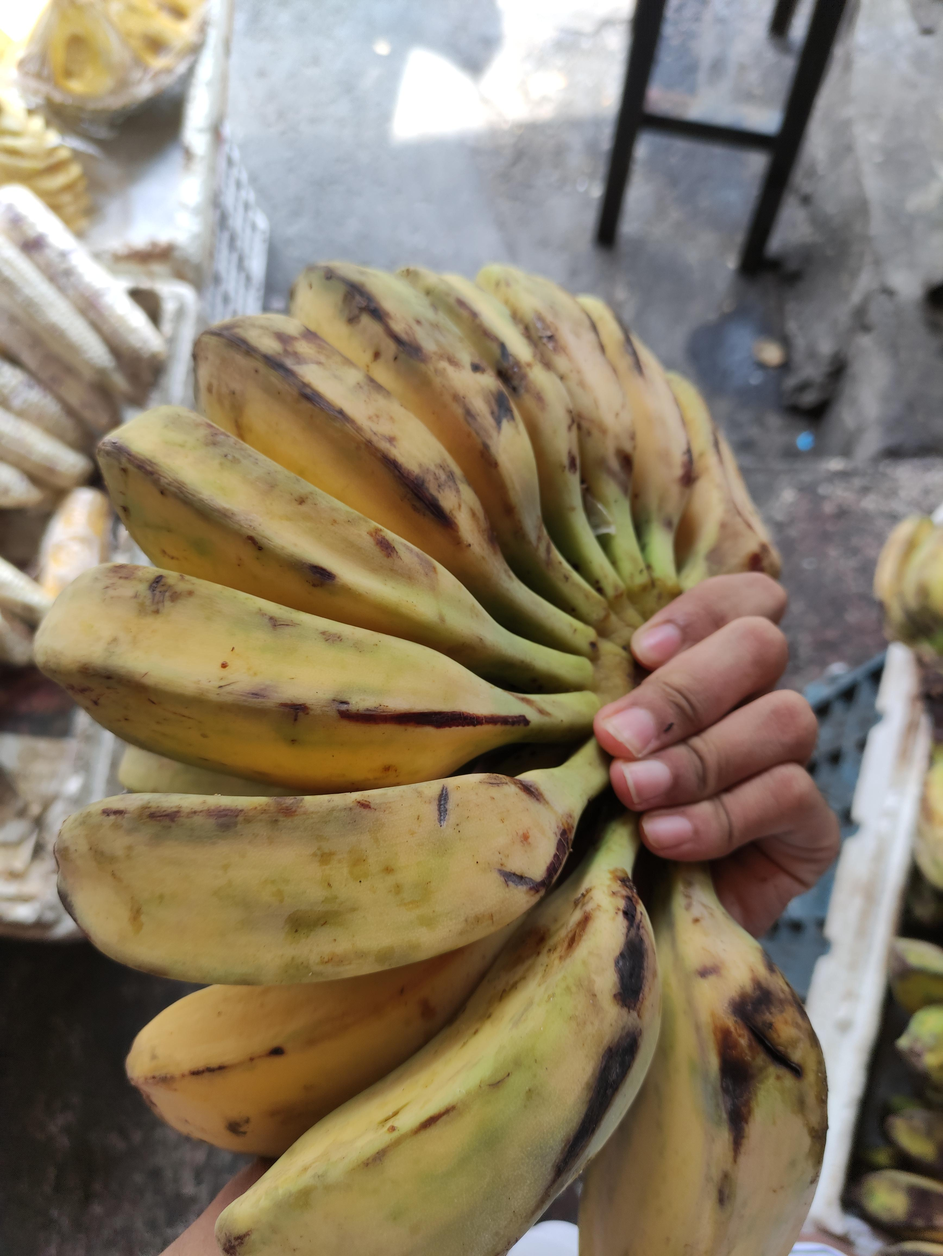ripe: (36, 262, 825, 1256)
